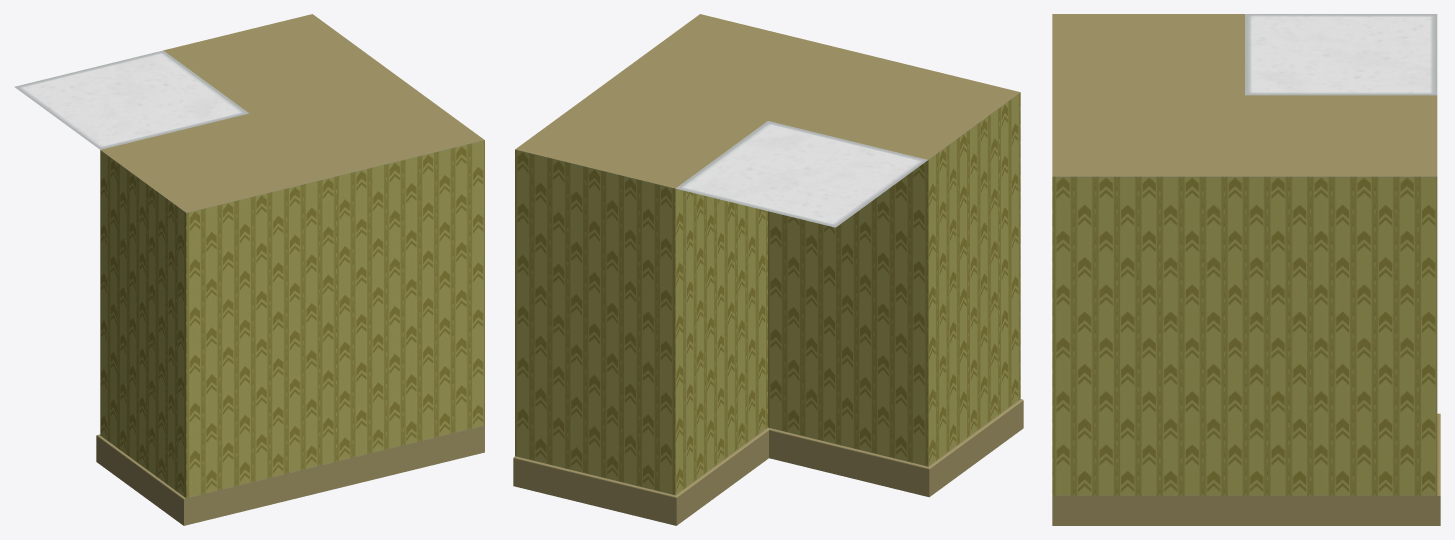
File: Backrooms Tiles.fbx_Corner-Half.fbx
3 views of the same model, side by side, from view 1: azimuth 30°, elevation 25°; view 2: azimuth 150°, elevation 25°; view 3: azimuth 270°, elevation 25° (orthographic). The views are drawn at different scales.
Visible parts, largest first — view 1: Corner-Half, Corner-Half-CeilingTile; view 2: Corner-Half, Corner-Half-CeilingTile; view 3: Corner-Half, Corner-Half-CeilingTile.
Part boxes in pixels (x1,y1,x2,y2): Corner-Half: (96,14,484,525); Corner-Half-CeilingTile: (14,50,248,149); Corner-Half: (513,14,1023,525); Corner-Half-CeilingTile: (676,121,927,227); Corner-Half: (1052,14,1440,525); Corner-Half-CeilingTile: (1245,14,1437,95).
Size of the model in its own units: 202 by 200 by 202.
